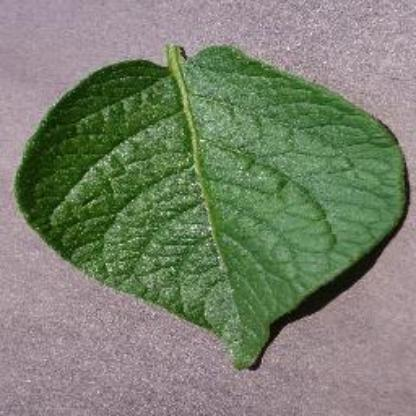Healthy-plant: (14, 28, 414, 376)
